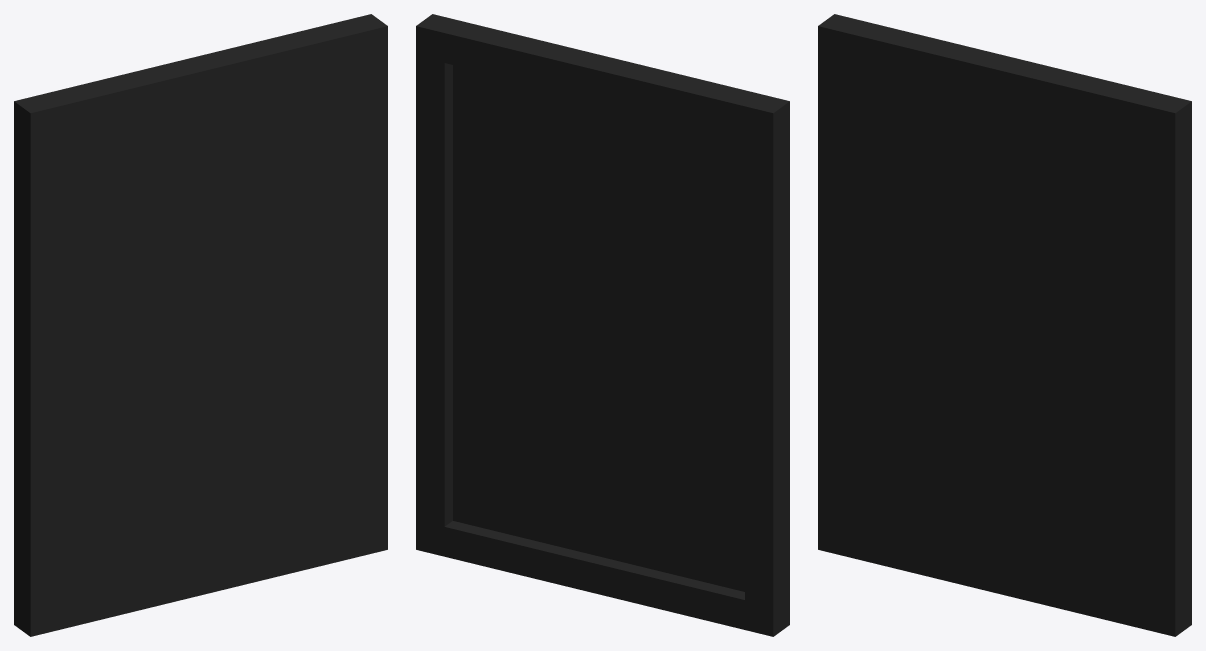
Rendered from frame_01.glb.
3 views of the same model, side by side, from view 1: azimuth 30°, elevation 25°; view 2: azimuth 150°, elevation 25°; view 3: azimuth 330°, elevation 25° (orthographic).
Parts seen in each view (by area): view 1: Untitled; view 2: Untitled; view 3: Untitled.
Part boxes in pixels (x1=…): Untitled: x1=14, y1=14, x2=387, y2=636; Untitled: x1=416, y1=14, x2=789, y2=636; Untitled: x1=818, y1=14, x2=1191, y2=636.
Size of the model in its own units: 0.75 by 1.05 by 0.06.
1 material, 1 textured.
